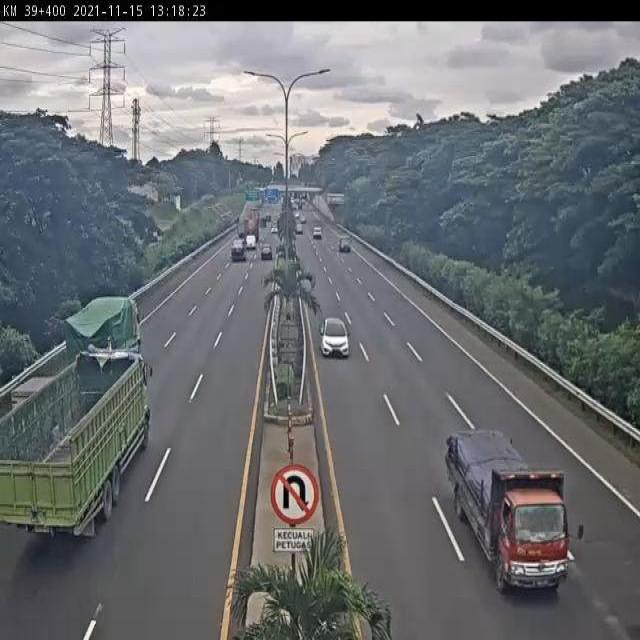car: (320, 314, 354, 362)
truck-l-: (0, 349, 151, 540)
truck-m-: (446, 425, 583, 596), (63, 296, 147, 364)
